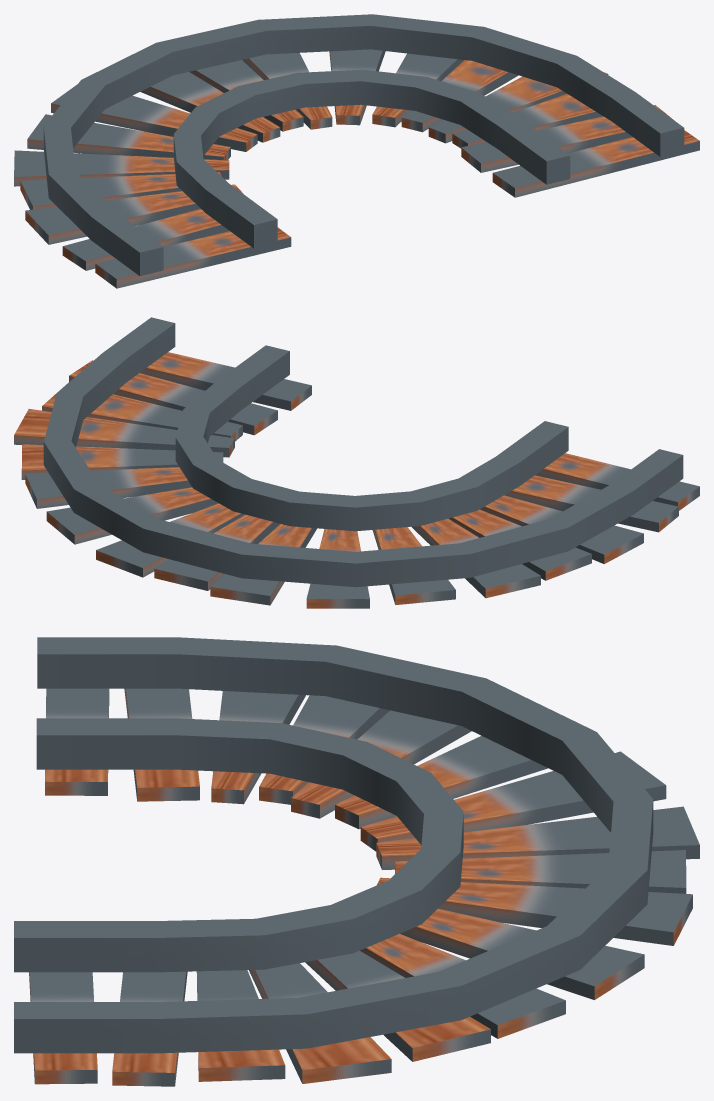
The model's file is long_turn_l_4.fbx.
3 renders of one model, top to bottom at view 1: azimuth 30°, elevation 25°; view 2: azimuth 150°, elevation 25°; view 3: azimuth 270°, elevation 25°, orthographic. The views are drawn at different scales.
Parts seen in each view (by area): view 1: long_turn_l_4; view 2: long_turn_l_4; view 3: long_turn_l_4.
Part boxes in pixels (x1,y1,x2,y2): long_turn_l_4: (14, 14, 699, 288); long_turn_l_4: (14, 317, 699, 608); long_turn_l_4: (14, 637, 699, 1086).
Size of the model in its own units: 38.37 by 2.08 by 26.51.
